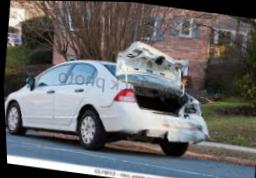Bumper: (136, 111, 206, 144)
Dickey: (113, 38, 194, 115)
Light: (182, 102, 200, 117)
